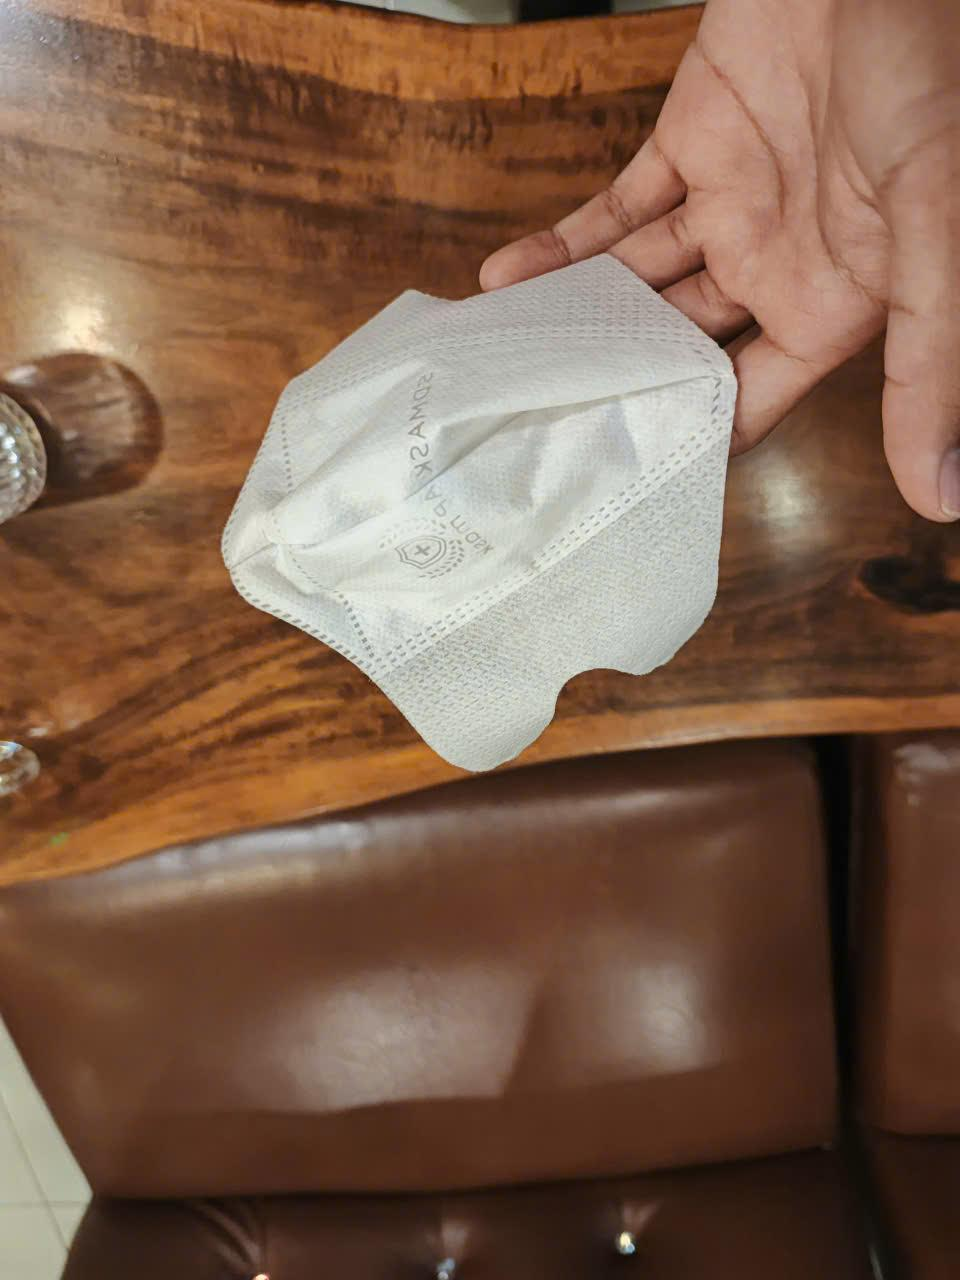Con lai: (218, 258, 736, 779)
